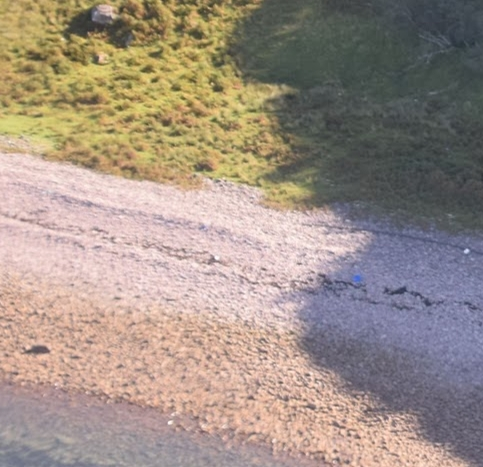scattered_barrel: (339, 239, 483, 288)
